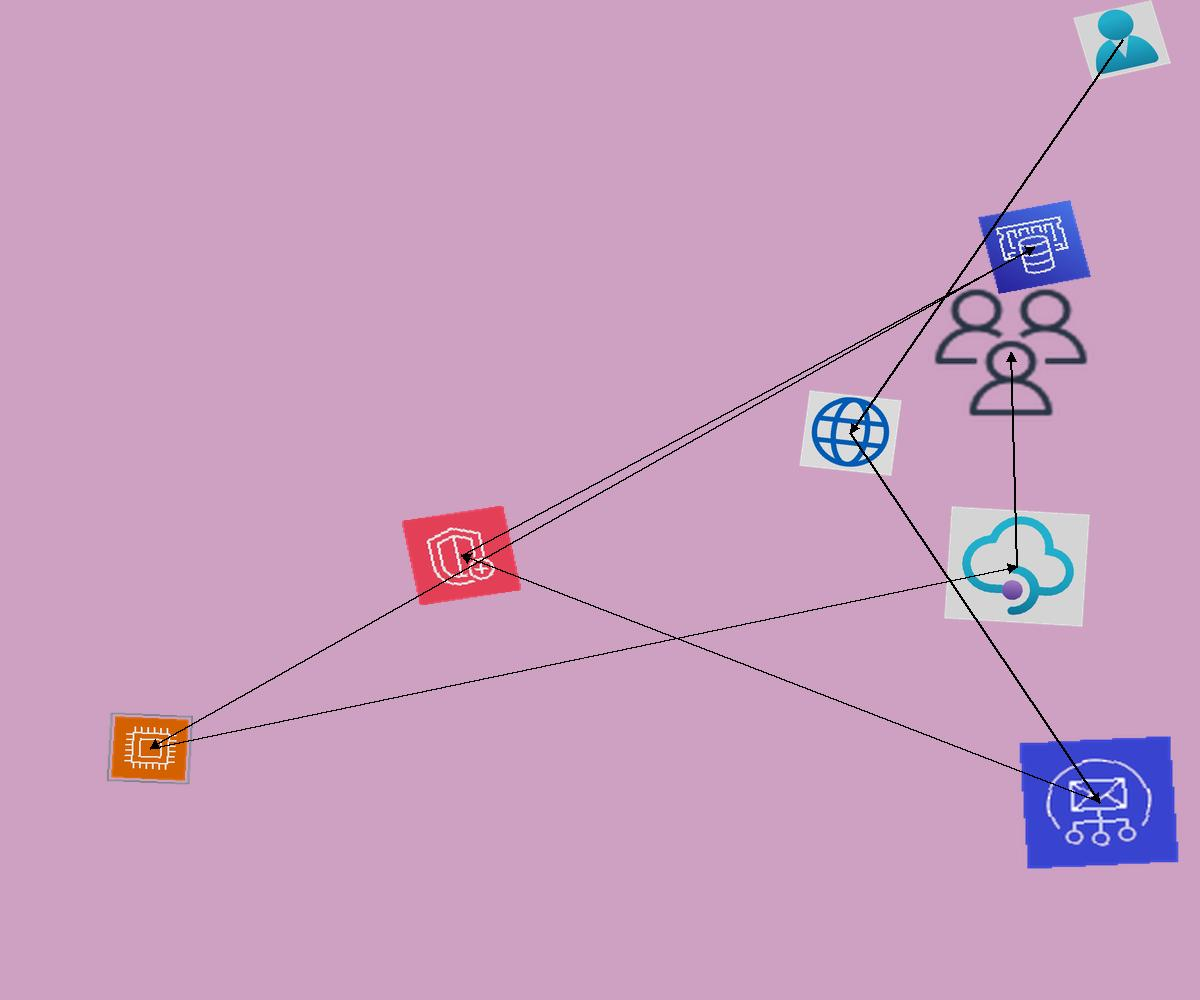AWS-Category_Compute: (106, 712, 194, 785)
AWS-ElastiCache: (978, 200, 1091, 294)
AWS-Res_Users: (925, 281, 1097, 424)
AWS-Shield: (401, 505, 522, 606)
AWS-Simple-Email-Service: (1018, 735, 1180, 870)
Azure_api_gateway: (944, 506, 1090, 627)
Azure_http: (799, 390, 902, 476)
Azure_users: (1073, 0, 1171, 81)
